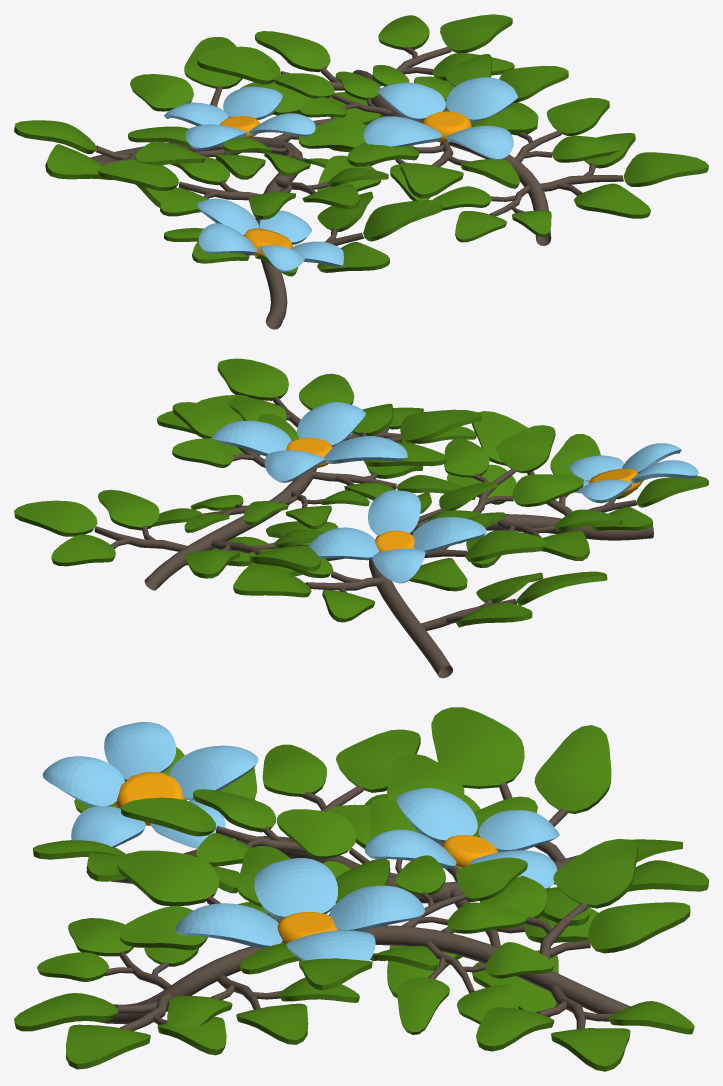
The model's file is Tile_Bridge_Ivy.fbx.
3 views of the same model, one above another, from view 1: azimuth 30°, elevation 25°; view 2: azimuth 150°, elevation 25°; view 3: azimuth 270°, elevation 25° (orthographic). The views are drawn at different scales.
Parts seen in each view (by area): view 1: BézierCurve.006; view 2: BézierCurve.006; view 3: BézierCurve.006.
Part boxes in pixels (x1,y1,x2,y2): BézierCurve.006: (14, 14, 708, 329); BézierCurve.006: (14, 358, 708, 678); BézierCurve.006: (14, 707, 708, 1071).
Bounding box in the file's own units: 200 × 37.97 × 176.
Materials: 1 (1 with a texture image).
